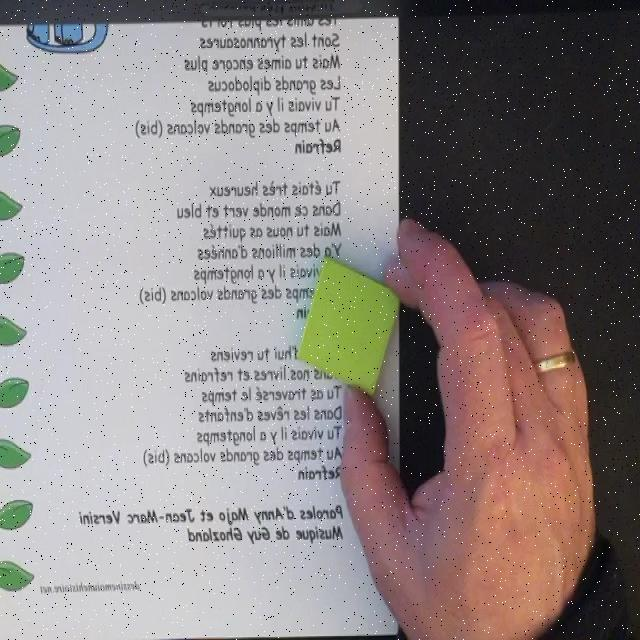square: (296, 258, 402, 396)
